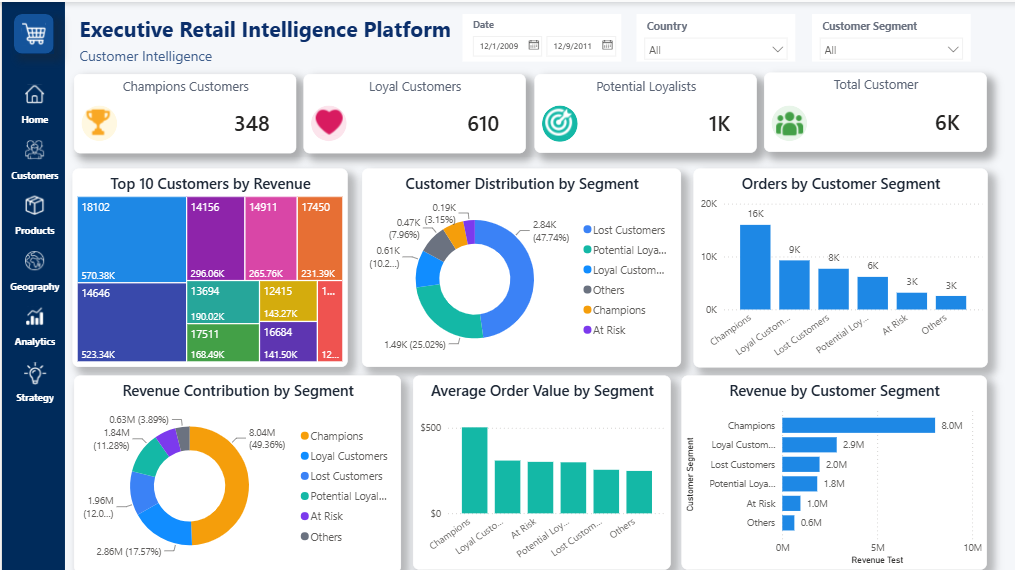

The page's visual inventory and layout, read from the dashboard file:
{"tool":"powerbi","page":{"name":"Customer Intelligence","canvas":[1280,720],"ordinal":1},"visuals":[{"type":"shape","box":[0,0,79.4,720],"z":0},{"type":"actionButton","box":[4,100,75,60],"z":1000},{"type":"actionButton","box":[4,170,75,60],"z":2000},{"type":"actionButton","box":[4,240,75,60],"z":3000},{"type":"actionButton","box":[4,310,75,60],"z":4000},{"type":"actionButton","box":[4,380,75,60],"z":5000},{"type":"actionButton","box":[15,15,50,50],"z":6000},{"type":"cardVisual","title":"Champions Customers","fields":{"Data":["Customer_Summary.Champions"]},"box":[90,90,280,100],"z":7000},{"type":"cardVisual","title":"Loyal Customers","fields":{"Data":["Customer_Summary.Loyal Customers"]},"box":[380,90,280,100],"z":8000},{"type":"cardVisual","title":"Potential Loyalists","fields":{"Data":["Customer_Summary.Potential Loyalists"]},"box":[670,90,280,99.6],"z":9000},{"type":"cardVisual","title":"Total Customer","fields":{"Data":["Customer_Summary.Total Customers"]},"box":[960,89.6,280.8,100],"z":10000},{"type":"treemap","title":"Top 10 Customers by Revenue","fields":{"Group":["Fact_Sales.Customer ID"],"Values":["Sum(Fact_Sales.Revenue)"]},"box":[89.6,209.1,346.6,250],"z":11000},{"type":"donutChart","title":"Customer Distribution by Segment","fields":{"Category":["Customer_Summary.Customer Segment"],"Y":["Count(Customer_Summary.Customer ID)"]},"box":[454.1,210,402.3,250],"z":12000},{"type":"donutChart","title":"Revenue Contribution by Segment","fields":{"Category":["Customer_Summary.Customer Segment"],"Y":["Sum(Customer_Summary.Total Revenue)"]},"box":[91.6,470,412.3,249],"z":13000},{"type":"clusteredColumnChart","title":"Average Order Value by Segment","fields":{"Category":["Customer_Summary.Customer Segment"],"Y":["Fact_Sales.Average Order Value"]},"box":[517.9,470,324.7,245],"z":14000},{"type":"clusteredColumnChart","title":"Orders by Customer Segment","fields":{"Category":["Customer_Summary.Customer Segment"],"Y":["Customer_Summary.Orders KPI"]},"box":[870.4,209.1,370.5,251],"z":15000},{"type":"clusteredBarChart","title":"Revenue by Customer Segment","fields":{"Category":["Customer_Summary.Customer Segment"],"Y":["Fact_Sales.Revenue Test"]},"box":[856.4,470,384.4,245],"z":16000},{"type":"textbox","title":"Executive Retail Intelligence Platform","box":[92.6,15.1,498.9,64.3],"z":17000},{"type":"slicer","fields":{"Values":["DateTable.Date"]},"box":[580,15.1,200,60],"z":18000},{"type":"slicer","fields":{"Values":["Fact_Sales.Country"]},"box":[800,15,200,60],"z":19000},{"type":"slicer","fields":{"Values":["Customer_Summary.Customer Segment"]},"box":[1020,15.9,200,60],"z":20000},{"type":"shape","box":[100,130,45,45],"z":21000},{"type":"actionButton","box":[101,131,42,42],"z":22000},{"type":"shape","box":[390,130,45,45],"z":23000},{"type":"actionButton","box":[391,131,42,42],"z":24000},{"type":"shape","box":[970,130,45,45],"z":25000},{"type":"actionButton","box":[971,131.5,42,42],"z":26000},{"type":"shape","box":[680,130,45,45.8],"z":27000},{"type":"actionButton","box":[681,131,42,42],"z":28000},{"type":"actionButton","box":[4,450,75.6,60.5],"z":28001}]}

Visuals, with their boxes on the page's 1280x720 design canvas (x1, y1, x2, y2). These are canvas units, not pixel positions in the 1015x570 screenshot, which may show the page scaled, cropped or inside an application window:
shape: <bbox>0, 0, 79, 720</bbox>
actionButton: <bbox>4, 100, 79, 160</bbox>
actionButton: <bbox>4, 170, 79, 230</bbox>
actionButton: <bbox>4, 240, 79, 300</bbox>
actionButton: <bbox>4, 310, 79, 370</bbox>
actionButton: <bbox>4, 380, 79, 440</bbox>
actionButton: <bbox>15, 15, 65, 65</bbox>
"Champions Customers" cardVisual: <bbox>90, 90, 370, 190</bbox>
"Loyal Customers" cardVisual: <bbox>380, 90, 660, 190</bbox>
"Potential Loyalists" cardVisual: <bbox>670, 90, 950, 190</bbox>
"Total Customer" cardVisual: <bbox>960, 90, 1241, 190</bbox>
"Top 10 Customers by Revenue" treemap: <bbox>90, 209, 436, 459</bbox>
"Customer Distribution by Segment" donutChart: <bbox>454, 210, 856, 460</bbox>
"Revenue Contribution by Segment" donutChart: <bbox>92, 470, 504, 719</bbox>
"Average Order Value by Segment" clusteredColumnChart: <bbox>518, 470, 843, 715</bbox>
"Orders by Customer Segment" clusteredColumnChart: <bbox>870, 209, 1241, 460</bbox>
"Revenue by Customer Segment" clusteredBarChart: <bbox>856, 470, 1241, 715</bbox>
"Executive Retail Intelligence Platform" textbox: <bbox>93, 15, 592, 79</bbox>
slicer - DateTable.Date: <bbox>580, 15, 780, 75</bbox>
slicer - Fact_Sales.Country: <bbox>800, 15, 1000, 75</bbox>
slicer - Customer_Summary.Customer Segment: <bbox>1020, 16, 1220, 76</bbox>
shape: <bbox>100, 130, 145, 175</bbox>
actionButton: <bbox>101, 131, 143, 173</bbox>
shape: <bbox>390, 130, 435, 175</bbox>
actionButton: <bbox>391, 131, 433, 173</bbox>
shape: <bbox>970, 130, 1015, 175</bbox>
actionButton: <bbox>971, 132, 1013, 174</bbox>
shape: <bbox>680, 130, 725, 176</bbox>
actionButton: <bbox>681, 131, 723, 173</bbox>
actionButton: <bbox>4, 450, 80, 510</bbox>
